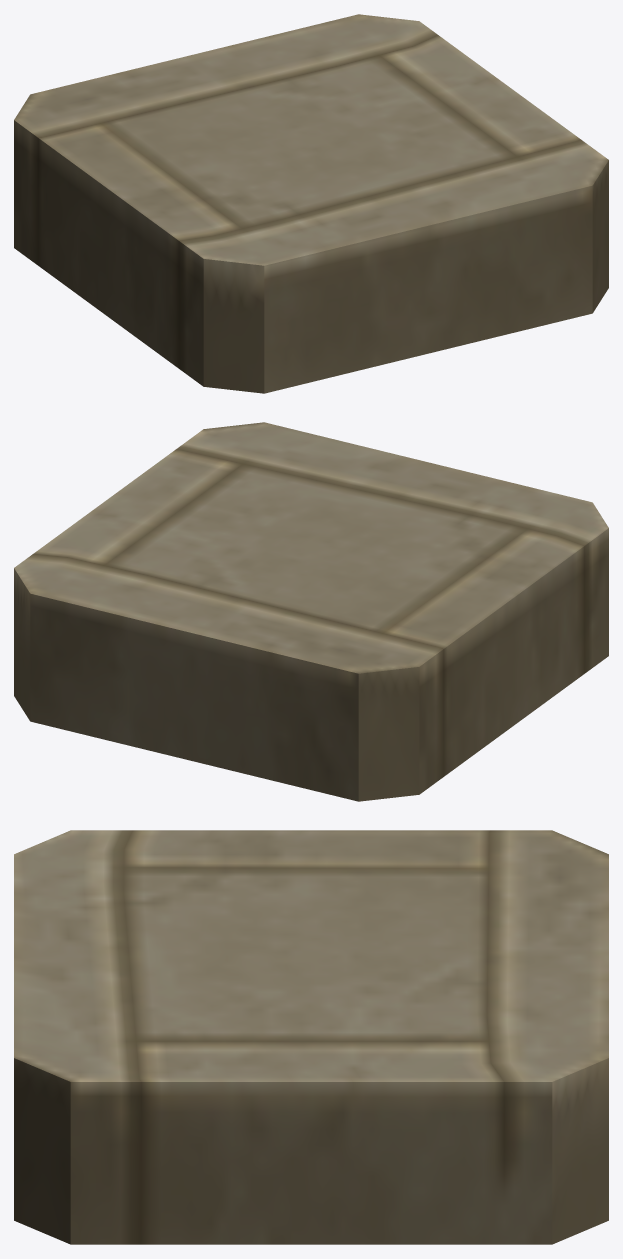
The model's file is GHmG_2_02.FBX.
The picture shows the model from 3 angles, top to bottom: view 1: azimuth 30°, elevation 25°; view 2: azimuth 150°, elevation 25°; view 3: azimuth 270°, elevation 25°; orthographic projection. The views are drawn at different scales.
Visible parts, largest first — view 1: Box672; view 2: Box672; view 3: Box672.
Boxes of the visible parts, bbox=[...] form: Box672: bbox=[14, 14, 608, 393]; Box672: bbox=[14, 422, 608, 801]; Box672: bbox=[14, 830, 608, 1244].
Size of the model in its own units: 0.8816 by 0.2659 by 0.8816.
